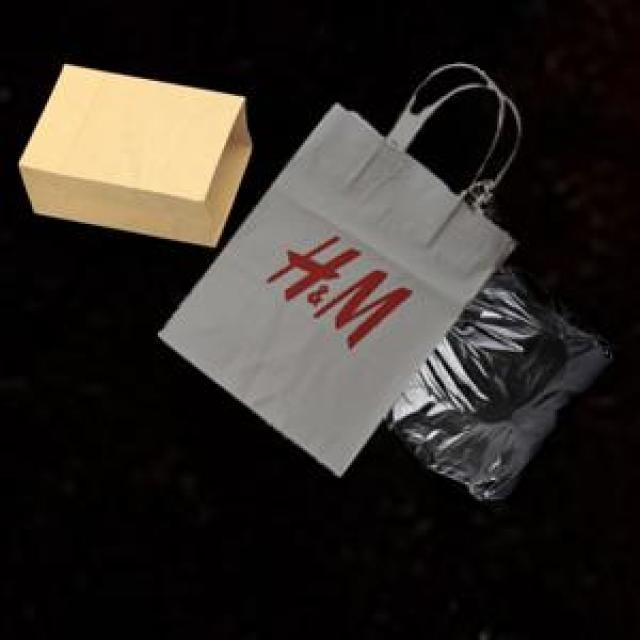miscellaneous trash: (380, 262, 612, 495)
paper: (154, 64, 512, 472), (15, 60, 248, 243)
